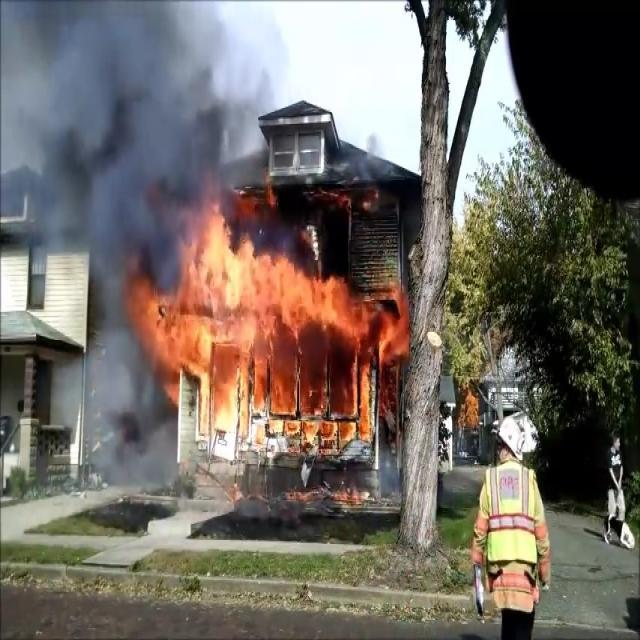Fire: (119, 190, 408, 448)
Smoke: (20, 0, 264, 270)
